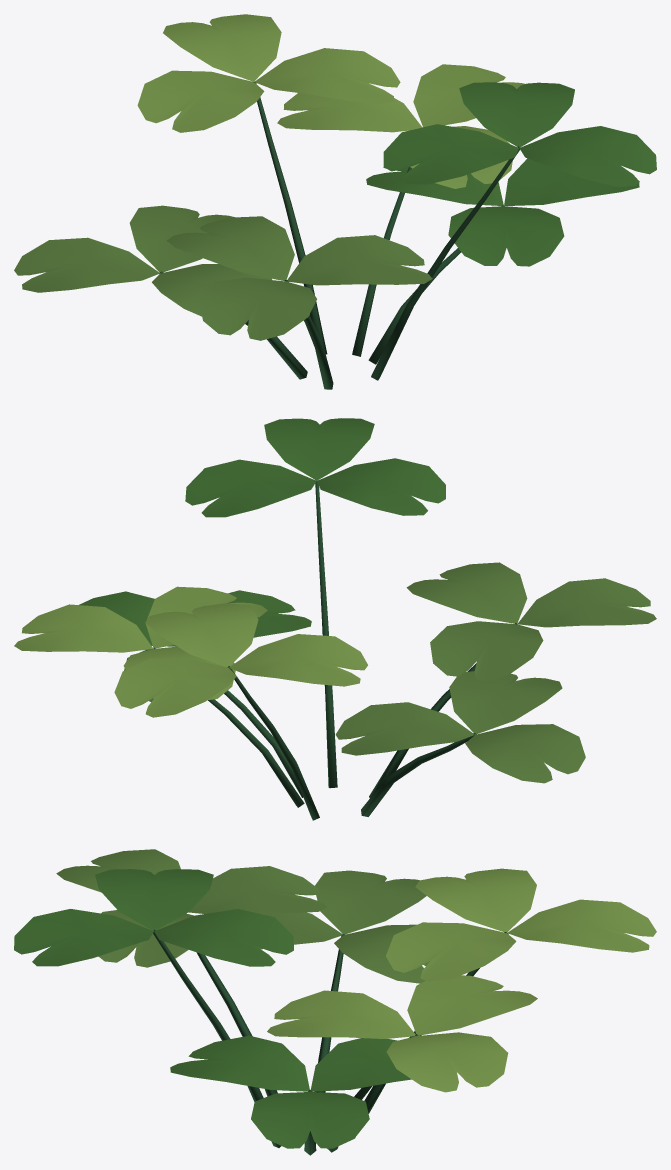
The model's file is meadow_clover.glb.
3 renders of one model, top to bottom at view 1: azimuth 30°, elevation 25°; view 2: azimuth 150°, elevation 25°; view 3: azimuth 270°, elevation 25°, orthographic. The views are drawn at different scales.
Visible parts, largest first — view 1: body; view 2: body; view 3: body.
Boxes of the visible parts, x1,y1,x2,y2 form: body: [14, 14, 656, 389]; body: [14, 418, 656, 820]; body: [14, 849, 656, 1155].
Bounding box in the file's own units: 0.3138 × 0.1444 × 0.3095.
